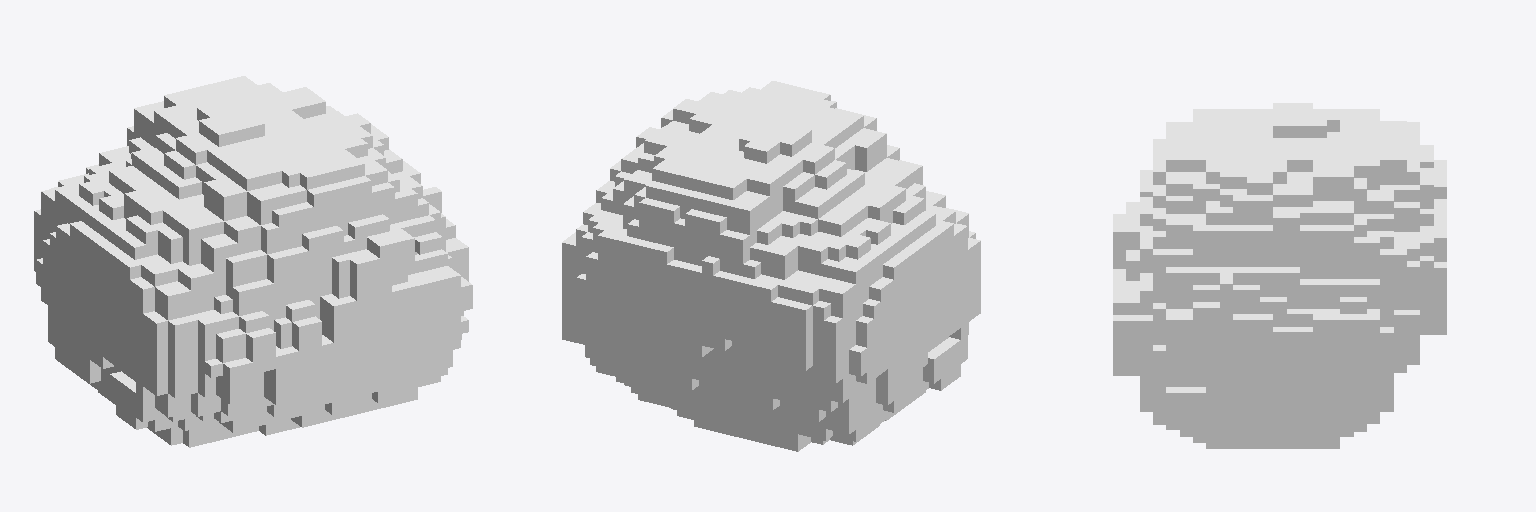
The model's file is canopy_4.obj.
3 views of the same model, side by side, from view 1: azimuth 30°, elevation 25°; view 2: azimuth 150°, elevation 25°; view 3: azimuth 270°, elevation 25° (orthographic).
Visible parts, largest first — view 1: object 1; view 2: object 1; view 3: object 1.
Boxes of the visible parts, x1,y1,x2,y2 form: object 1: [34, 76, 472, 447]; object 1: [562, 81, 980, 451]; object 1: [1113, 103, 1446, 448].
Size of the model in its own units: 16.2 by 13.2 by 15.